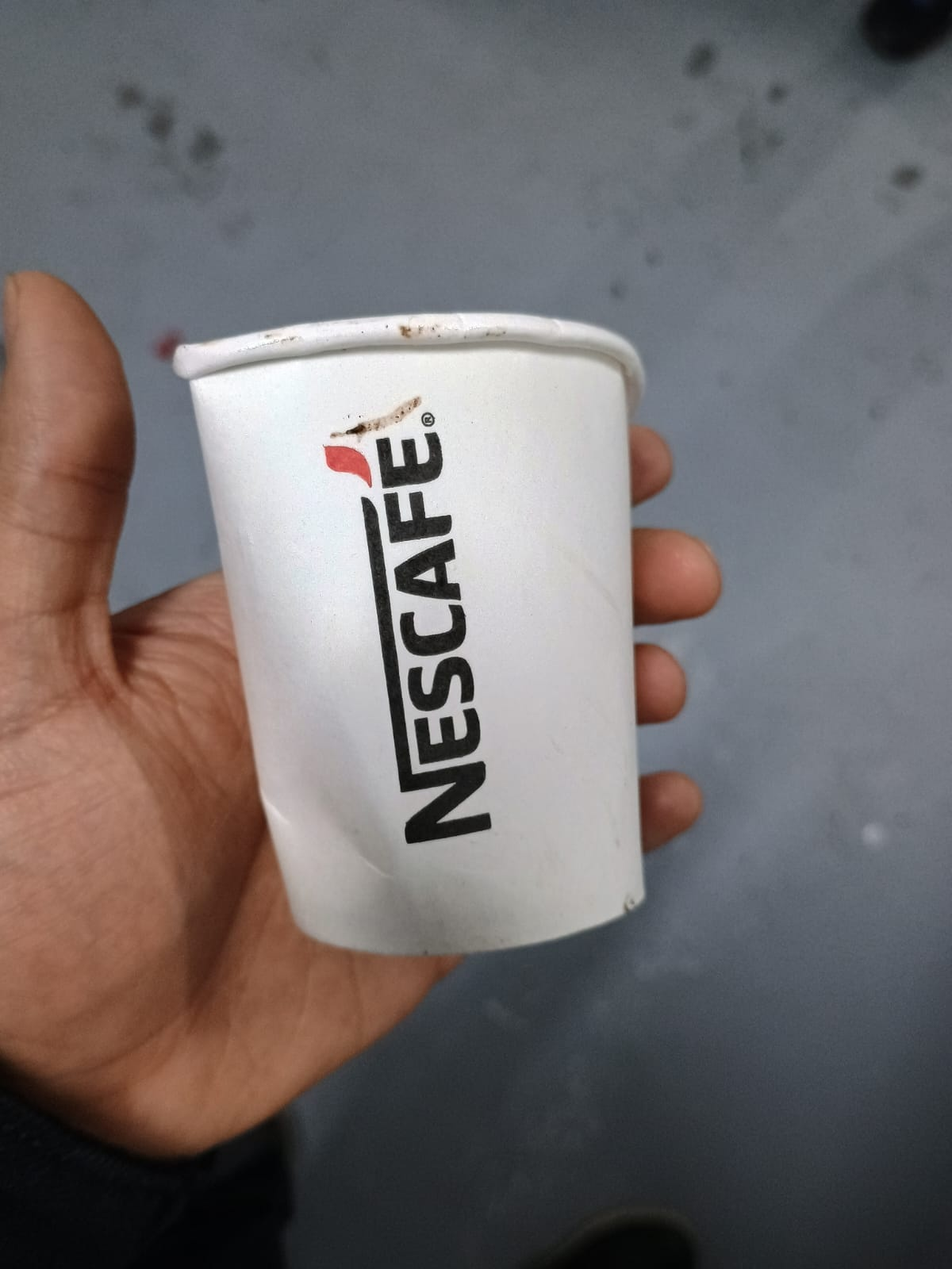Carton: (172, 311, 650, 950)
